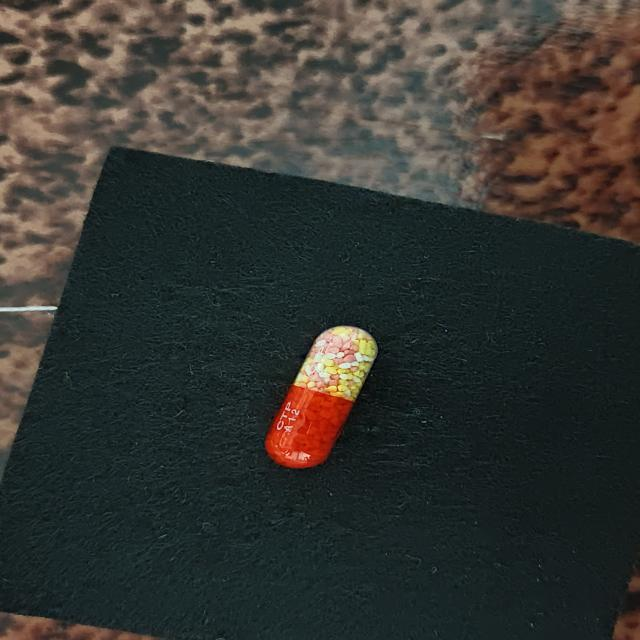Intact Capsule: (265, 325, 378, 469)
